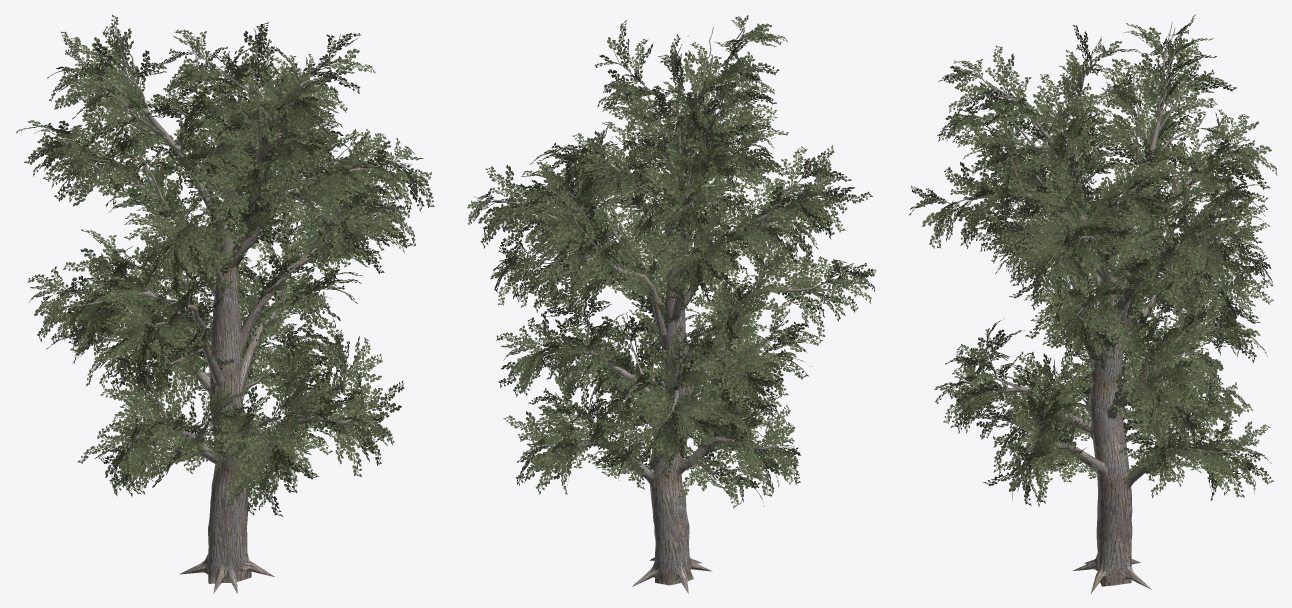
Rendered from peuplier-1.glb.
The picture shows the model from 3 angles, left to right: view 1: azimuth 30°, elevation 25°; view 2: azimuth 150°, elevation 25°; view 3: azimuth 270°, elevation 25°; orthographic projection. The views are drawn at different scales.
Parts seen in each view (by area): view 1: Ash01_LOD0; view 2: Ash01_LOD0; view 3: Ash01_LOD0.
Part boxes in pixels (x1,y1,x2,y2): Ash01_LOD0: (16,14,434,593); Ash01_LOD0: (467,15,876,593); Ash01_LOD0: (909,14,1277,593).
Bounding box in the file's own units: 10.32 × 16.38 × 10.36.
Materials: 2 (2 with a texture image).
